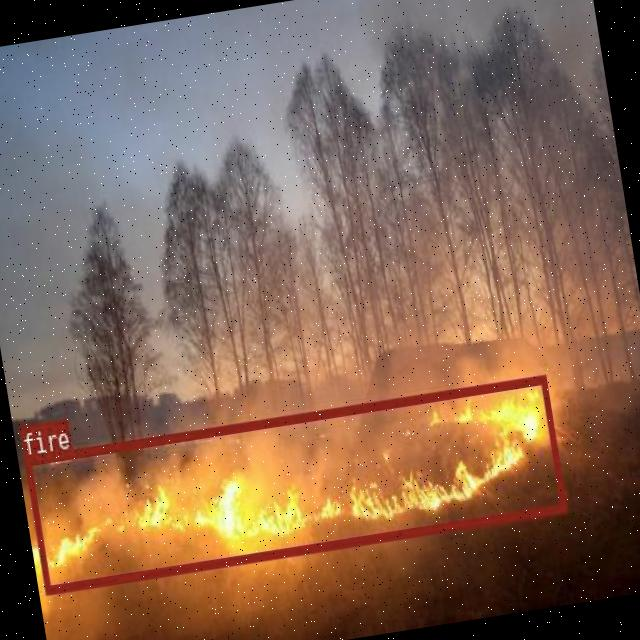fire: (23, 374, 566, 594)
